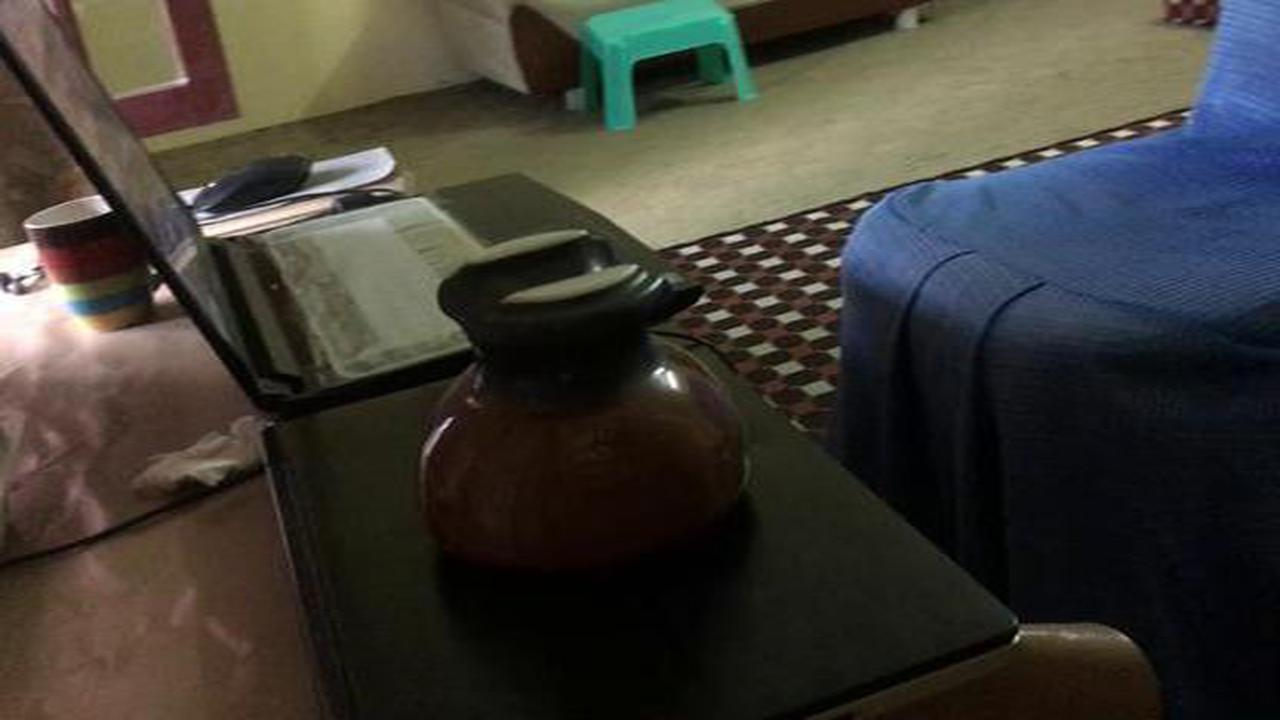insulator_pin: (397, 223, 767, 594)
